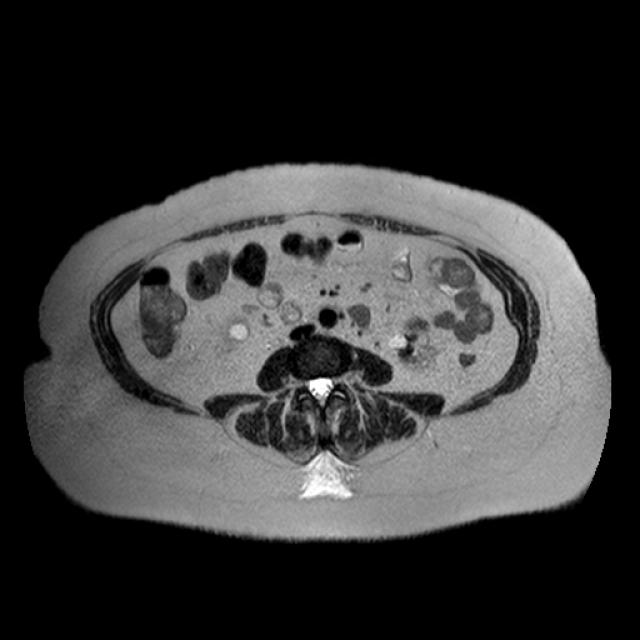sag: (224, 318, 249, 343)
sol: (388, 329, 438, 372)
